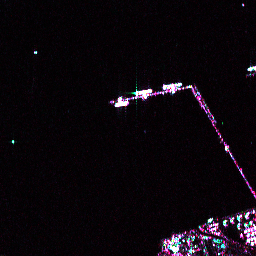ship: (161, 79, 183, 91), (133, 86, 154, 97), (113, 99, 130, 108), (246, 61, 256, 73)
